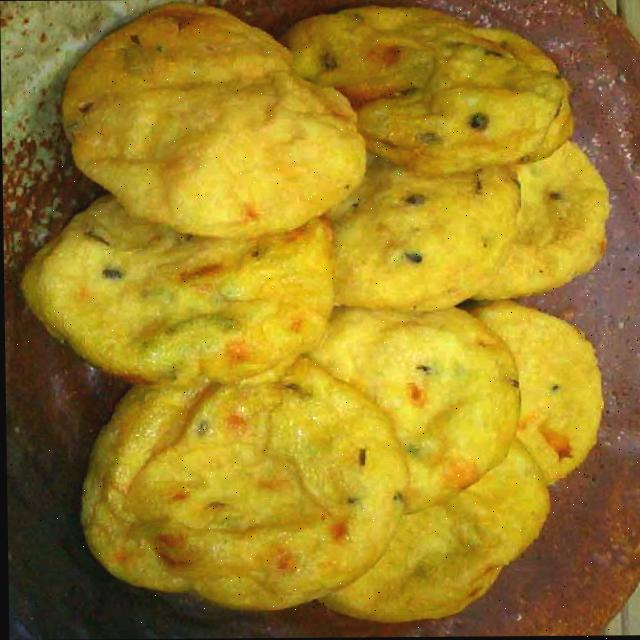熟制海鲜: (14, 0, 621, 630)
